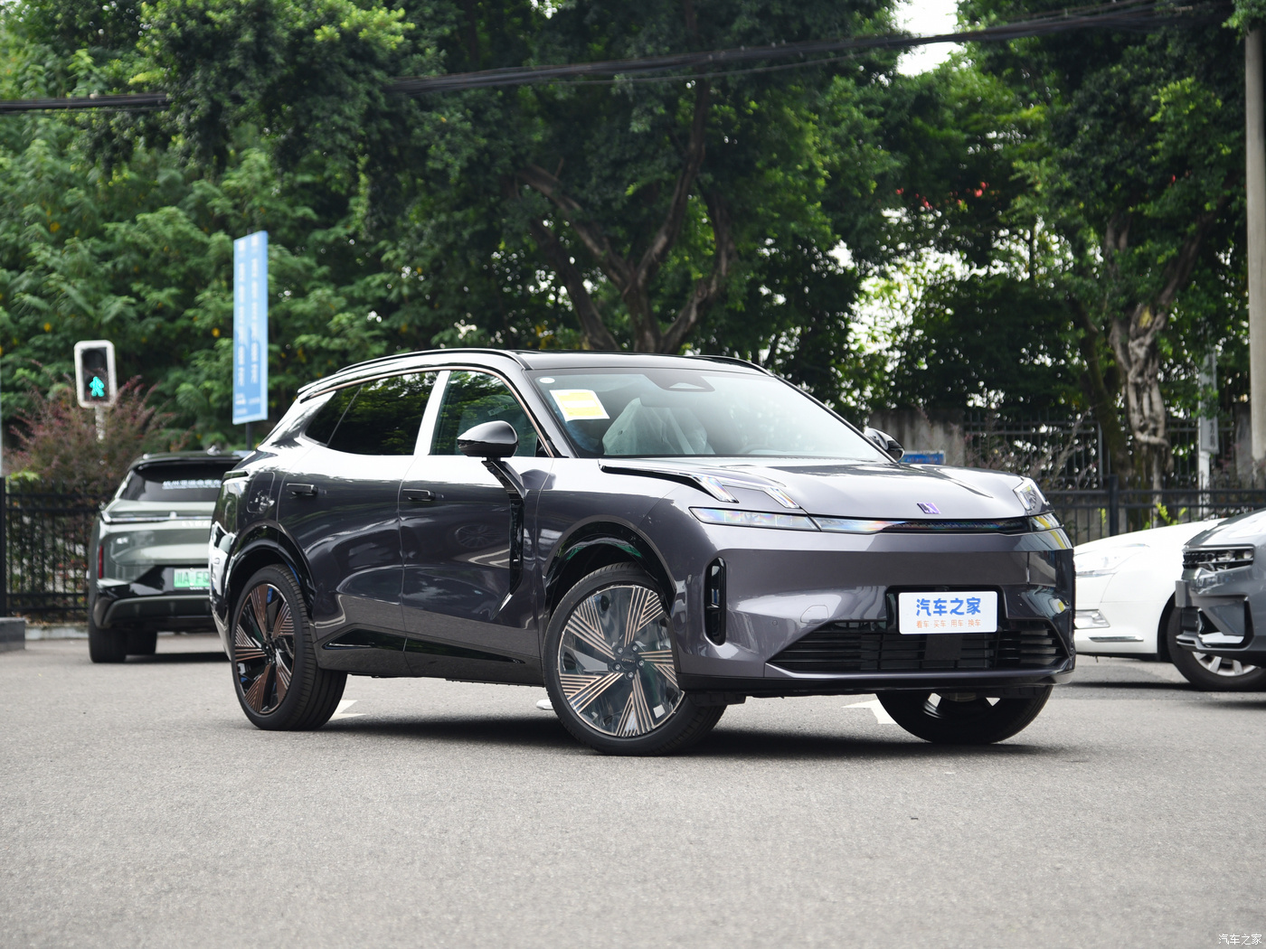LINK&CO: (916, 503, 940, 514)
